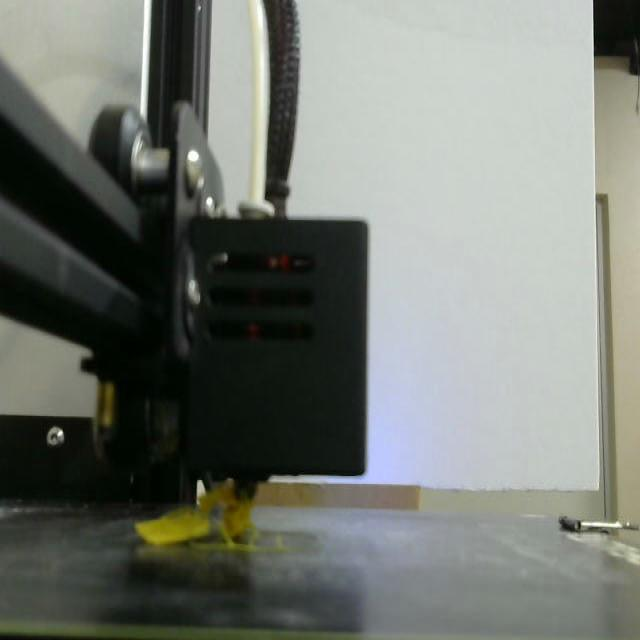spaghetti: (135, 480, 256, 551)
